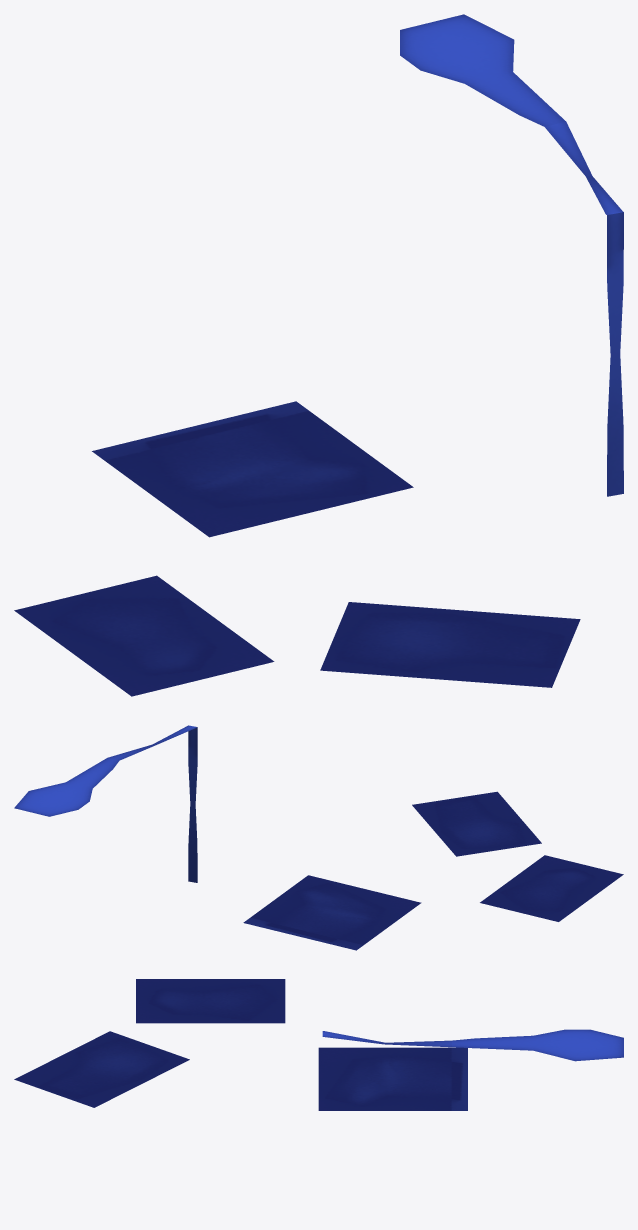
File: Water_01.FBX
3 views of the same model, one above another, from view 1: azimuth 30°, elevation 25°; view 2: azimuth 150°, elevation 25°; view 3: azimuth 270°, elevation 25° (orthographic). The views are drawn at different scales.
Visible parts, largest first — view 1: Water_01; view 2: Water_01; view 3: Water_01.
Part boxes in pixels (left/top/right/bottom): Water_01: left=14, top=14, right=623, bottom=696; Water_01: left=14, top=725, right=623, bottom=950; Water_01: left=14, top=979, right=623, bottom=1110.
Size of the model in its own units: 18.55 by 6.98 by 21.19.
